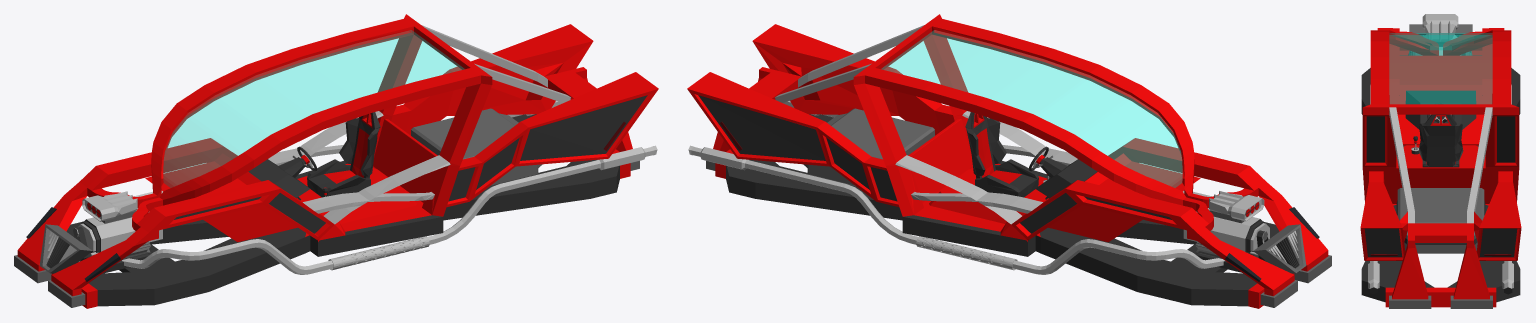
File: car2.obj
The picture shows the model from 3 angles, left to right: view 1: azimuth 30°, elevation 25°; view 2: azimuth 150°, elevation 25°; view 3: azimuth 270°, elevation 25°; orthographic projection. The views are drawn at different scales.
Parts seen in each view (by area): view 1: body; view 2: body; view 3: body.
Part boxes in pixels (x1,y1,x2,y2): body: [14, 14, 658, 308]; body: [687, 14, 1331, 308]; body: [1360, 14, 1521, 308].
Bounding box in the file's own units: 8.37 × 2.21 × 2.22.
